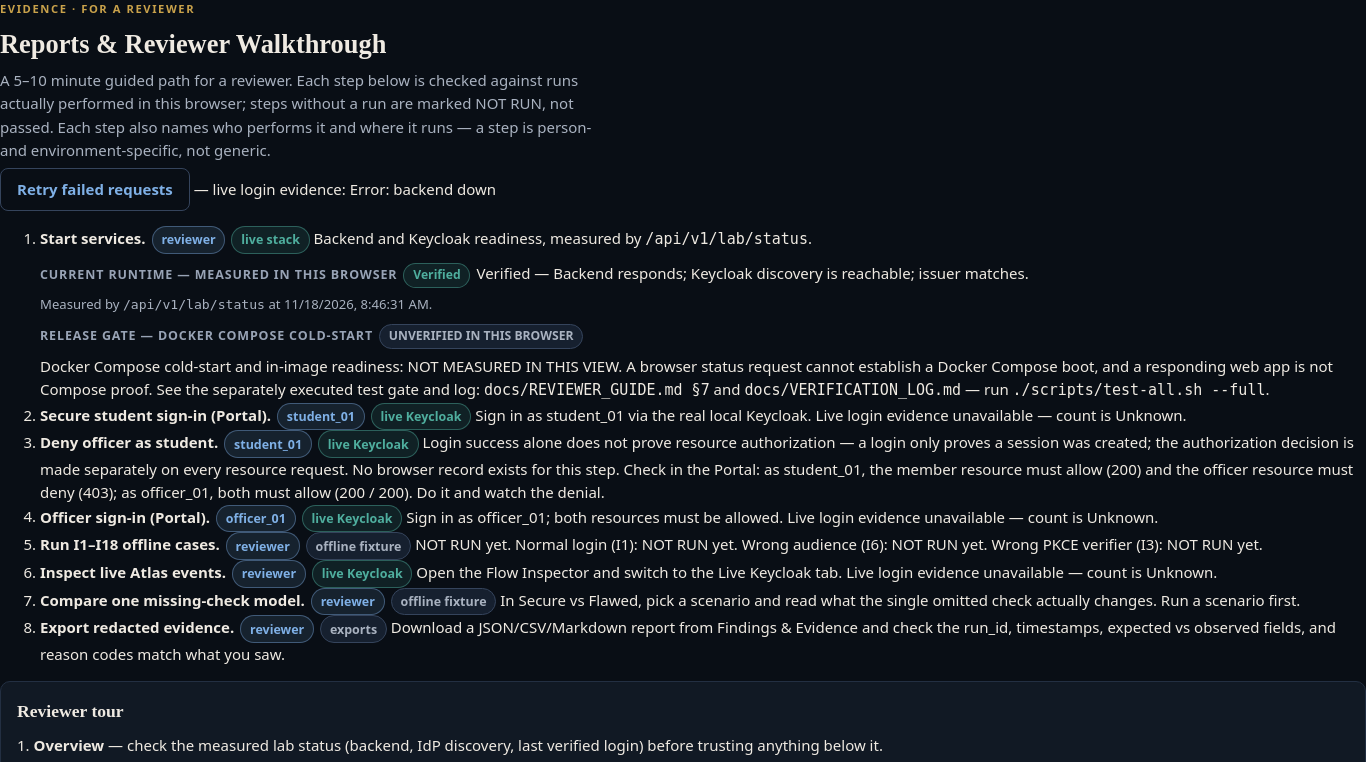
Test: Reports release-gate honesty (IF-V7-01) › (4) stale status after earlier success shows no current green VERIFIED
Expected: the text "Verified — Backend responds; Keycloak discovery is reachable; issuer matches." is shown, [476, 262, 1029, 285]
Click the button "Retry failed requests". click: (95, 190)
box: [0, 168, 190, 211]
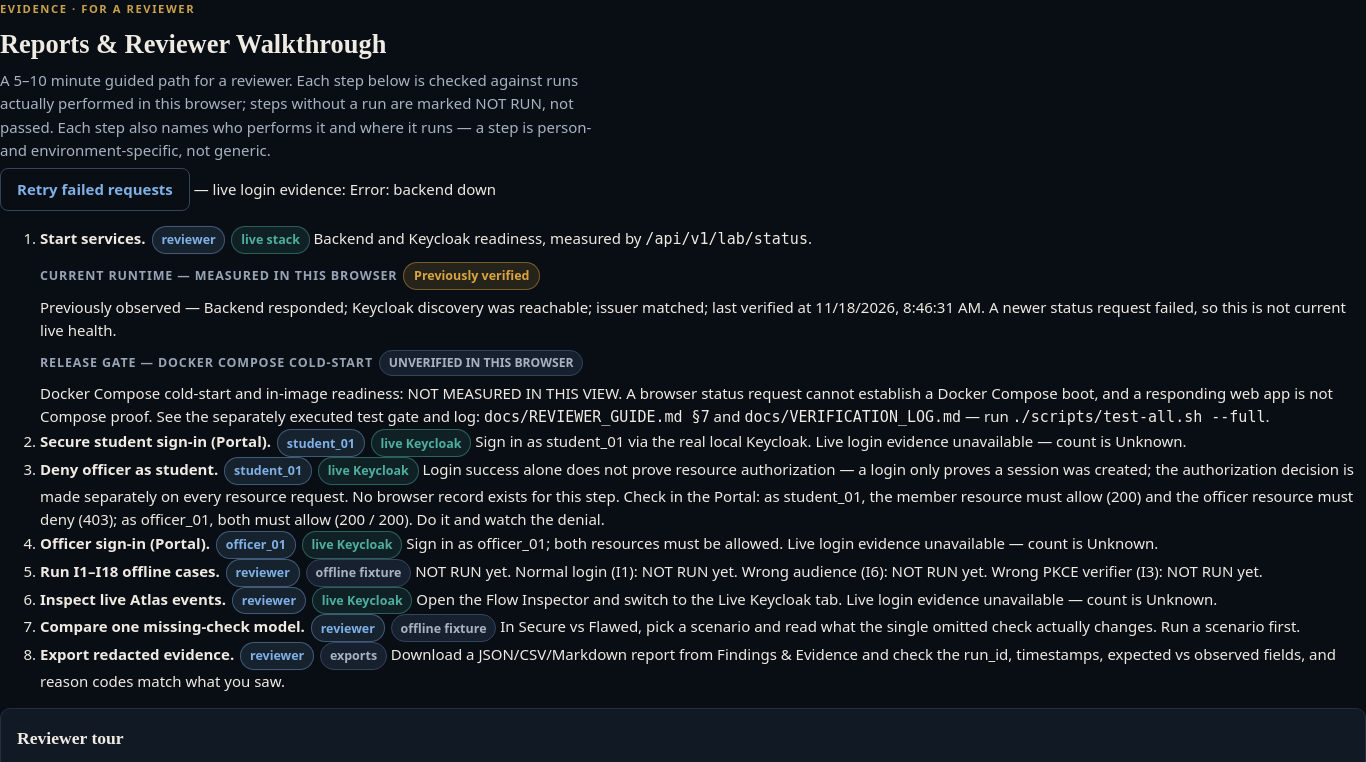
Expected: the text "Verified — Backend responds; Keycloak discovery is reachable; issuer matches." is gone
Expected: the text "Previously verified" is shown, [404, 262, 540, 290]
